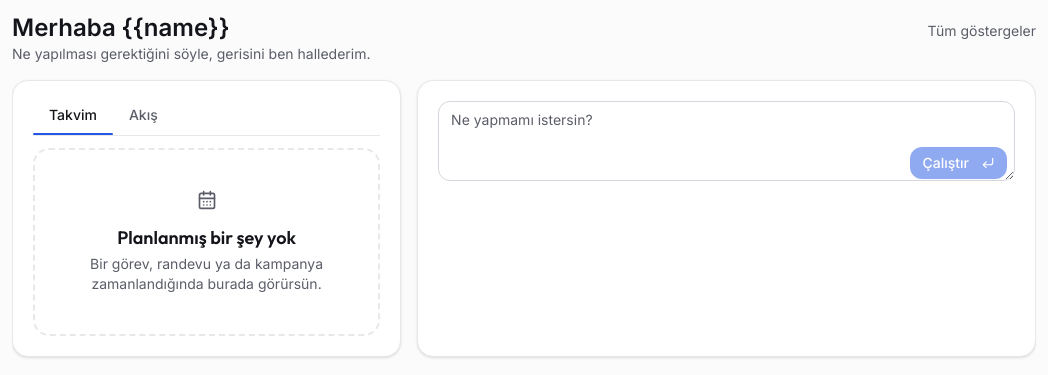
Test: CommandCenterPage › runs a typed command and reports what it did
The image size is (1048, 375).
Type "eylül için 3 gönderi hazırla" into the text box.
click(727, 141); type("eylül için 3 gönderi hazırla")  # box 438,101 -> 1015,181
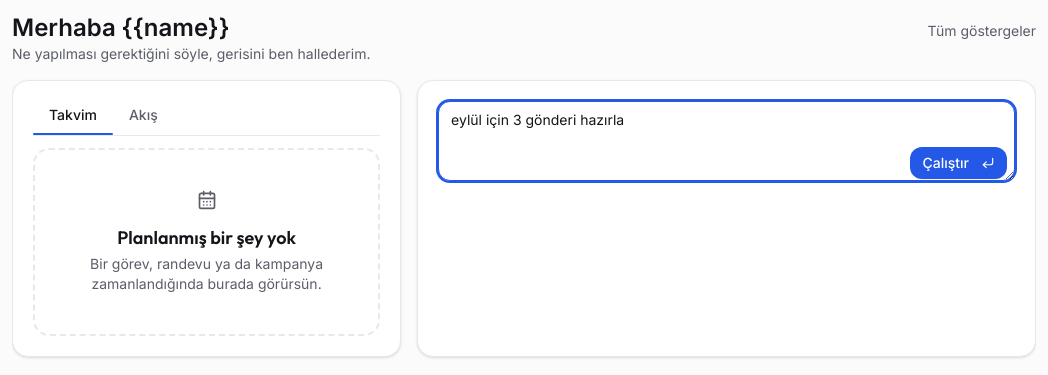
Click the button "Çalıştır".
click(959, 163)  # box 910,147 -> 1007,179
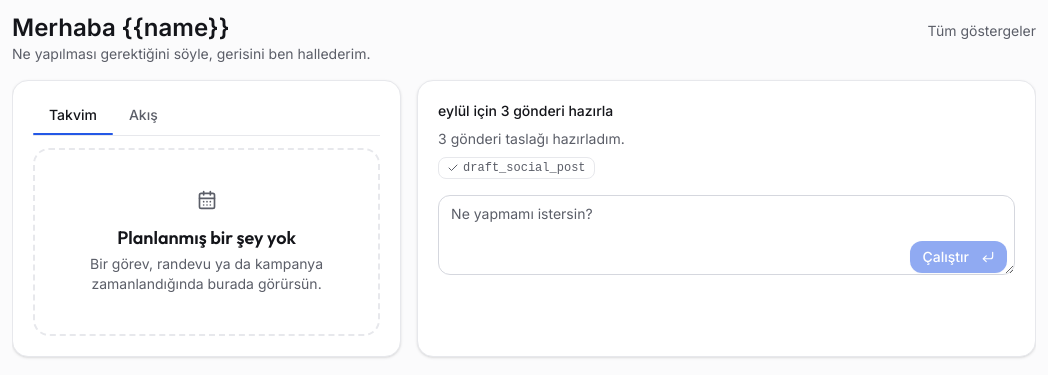
Expected: the text "eylül için 3 gönderi hazırla" is shown, 438,102 -> 613,119
Expected: the text "3 gönderi taslağı hazırladım." is shown, 438,130 -> 625,147
Expected: the text "draft_social_post" is shown, 463,160 -> 586,176
